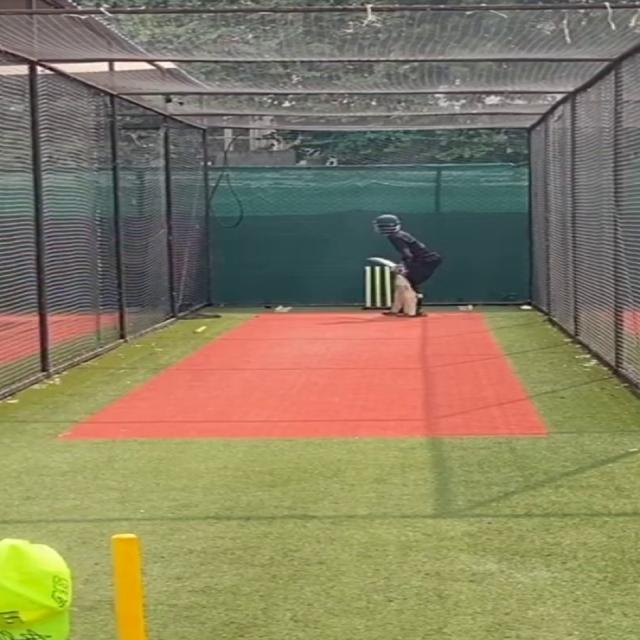stump: (360, 264, 392, 309)
